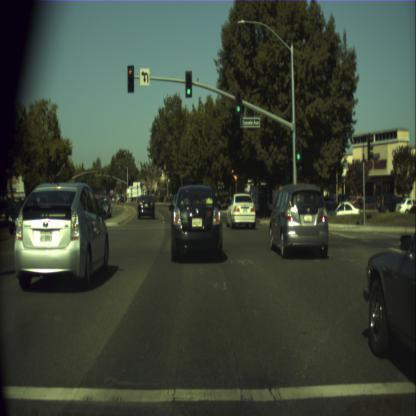Green: (185, 70, 192, 98), (235, 90, 241, 113), (295, 138, 301, 161)
RedLeft: (127, 64, 134, 92)
